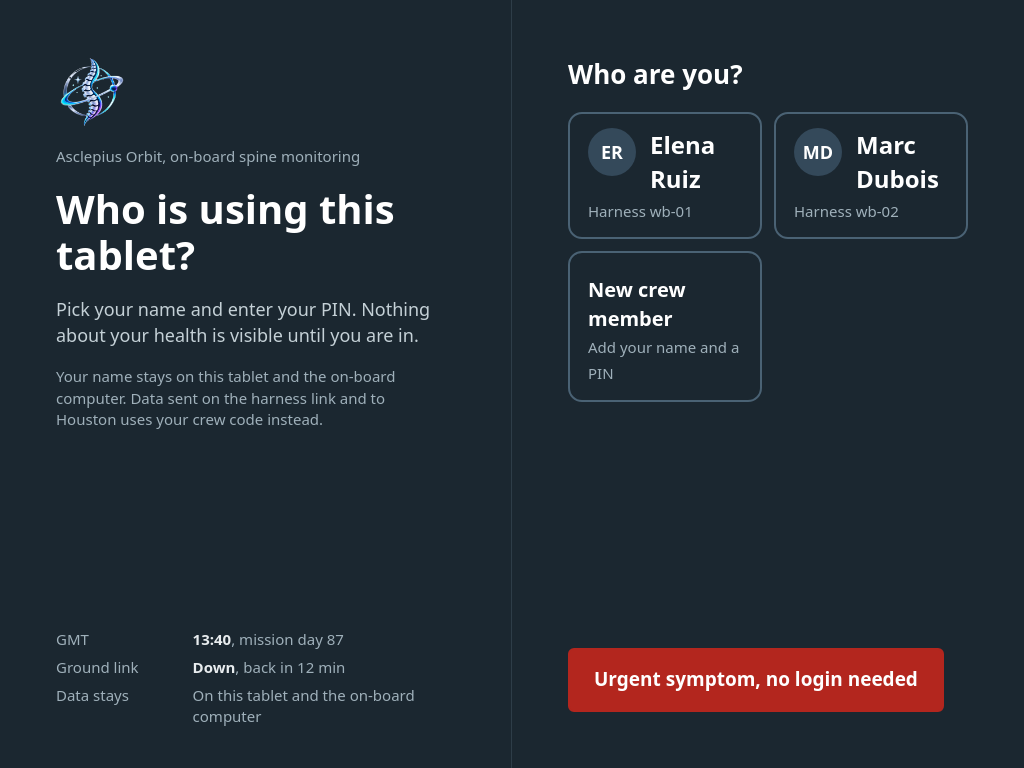
Test: LoginView › maps unknown_crew to a generic message
Click the button "ER Elena Ruiz Harness wb-01".
click(665, 176)  # box 568,112 -> 762,239
(page scrolled)
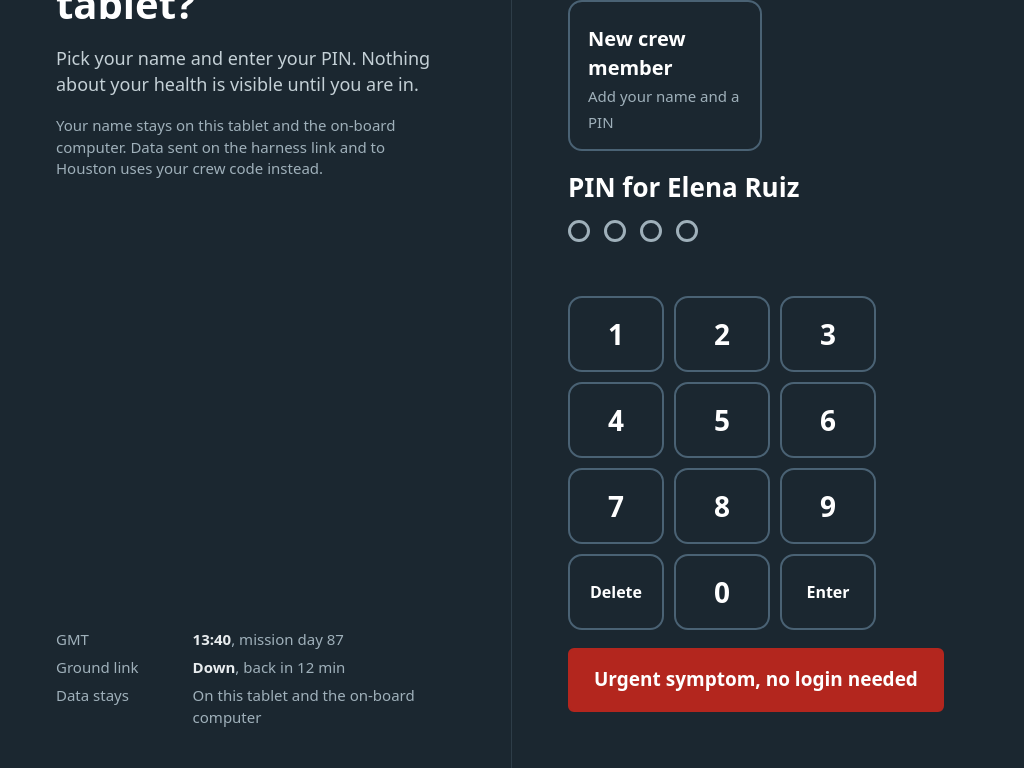
Click the button "0".
click(722, 592)  # box 674,554 -> 770,630
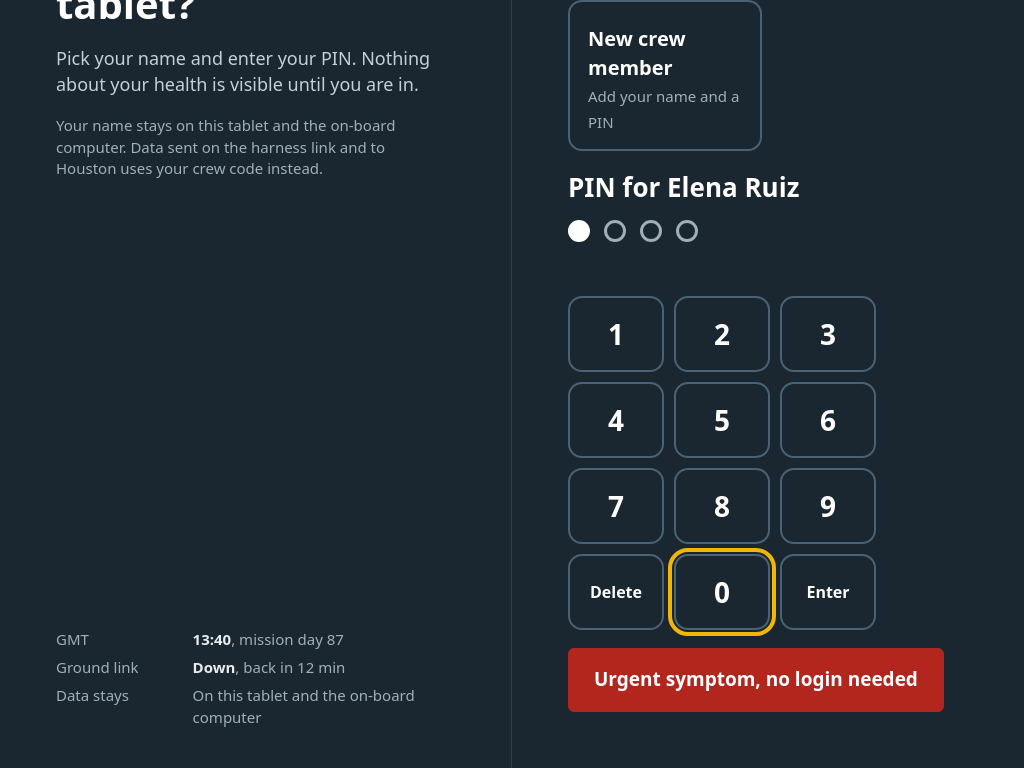
Click the button "0".
click(722, 592)  # box 674,554 -> 770,630
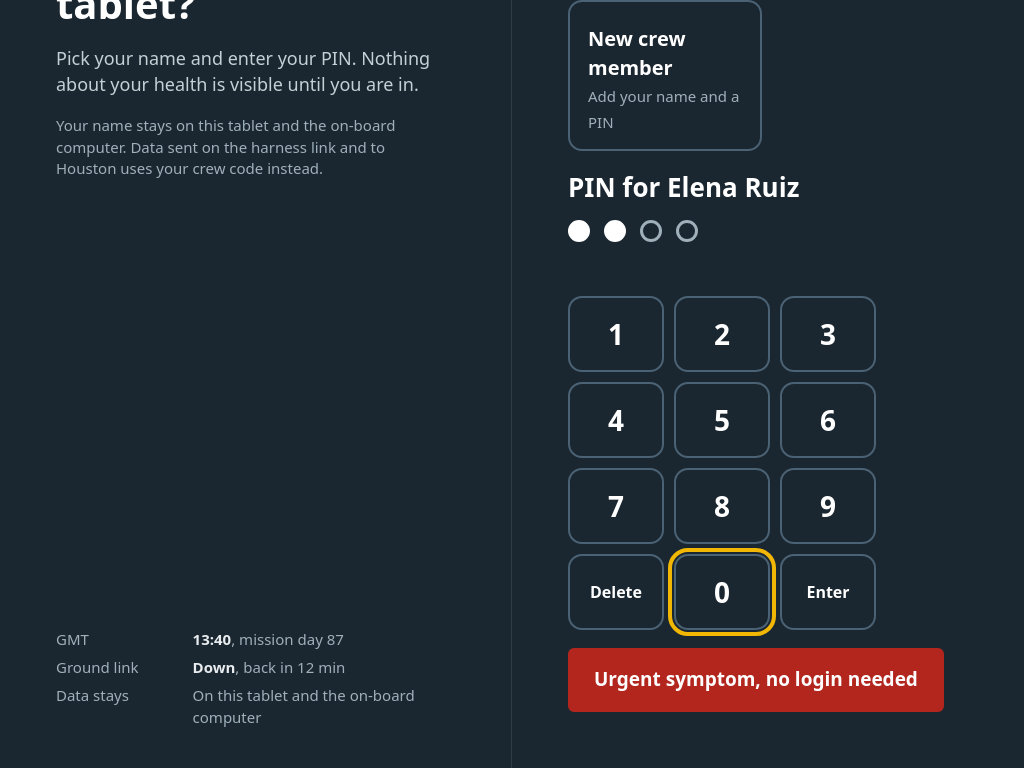
Click the button "0".
click(722, 592)  # box 674,554 -> 770,630
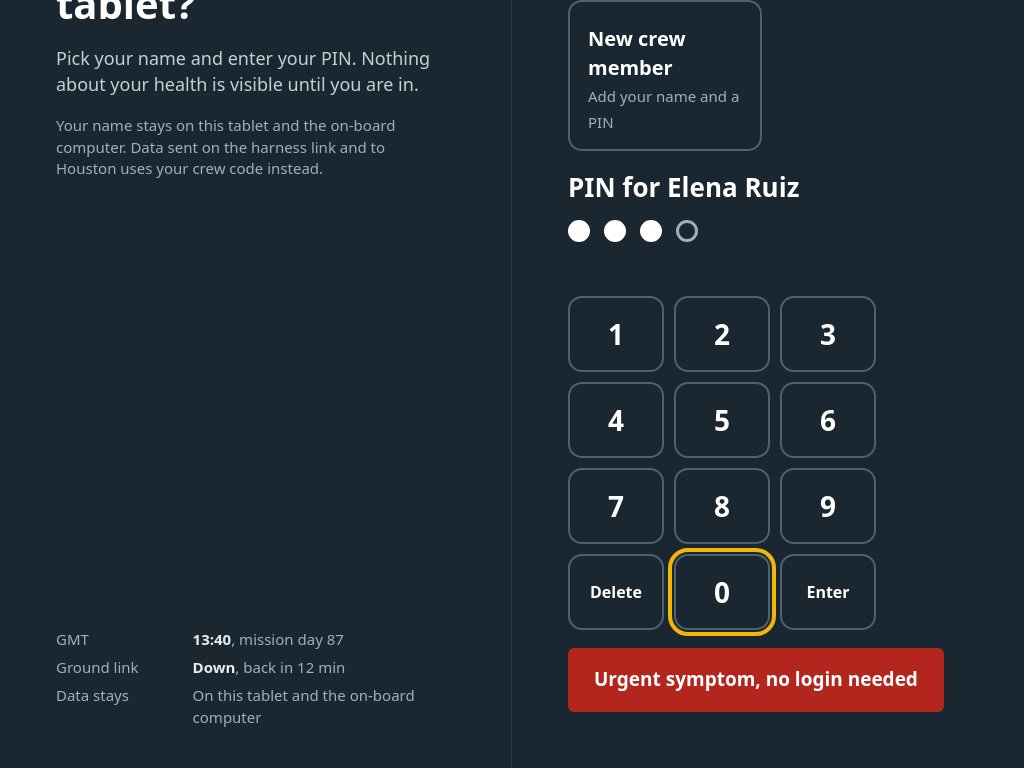
Click the button "0".
click(722, 592)  # box 674,554 -> 770,630
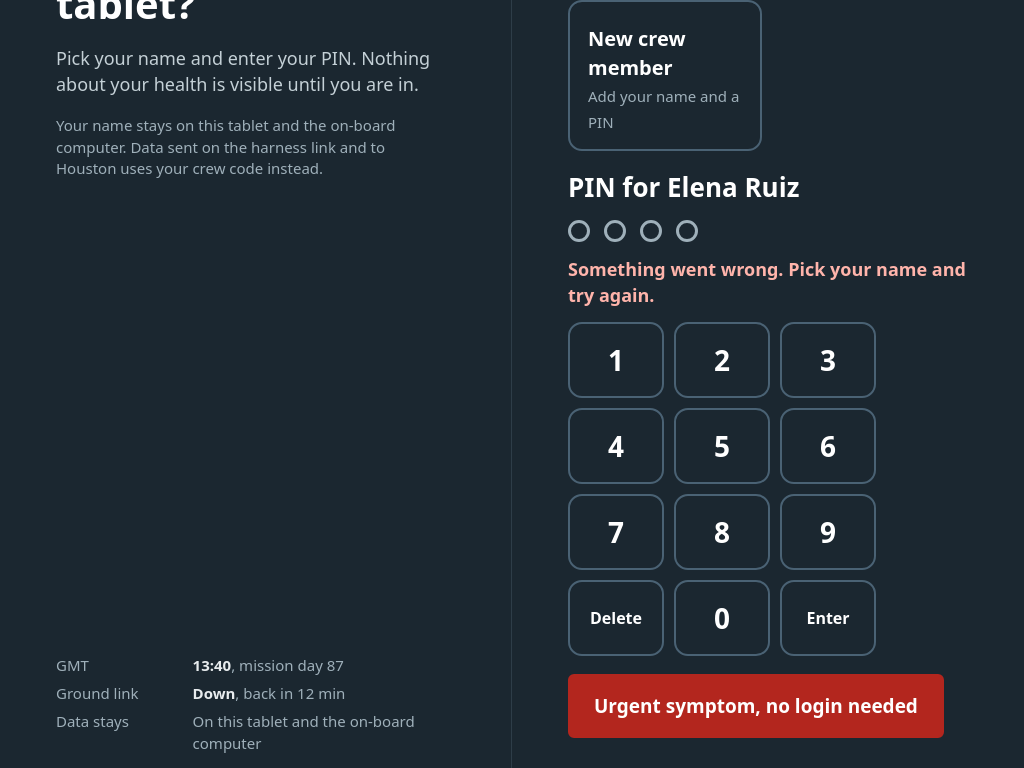
Expected: the text "Something went wrong. Pick your name and try again." is shown, 568,256 -> 968,308
